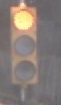Red: (2, 5, 48, 88)
